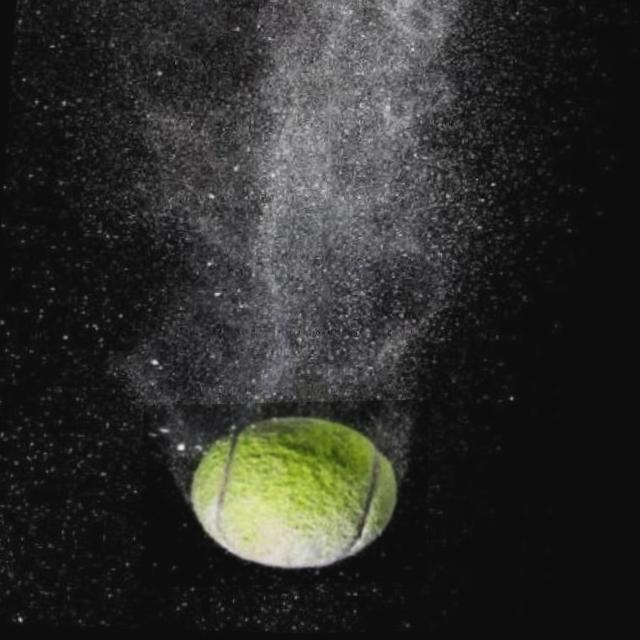-: (143, 402, 430, 588)
